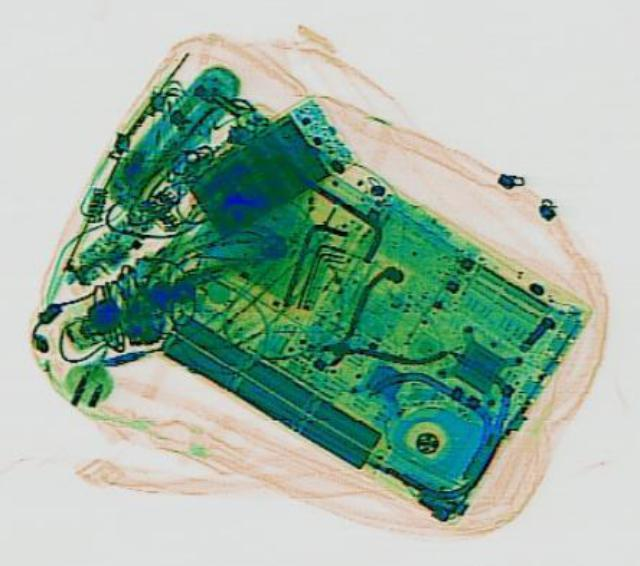Pliers: (284, 260, 458, 400)
